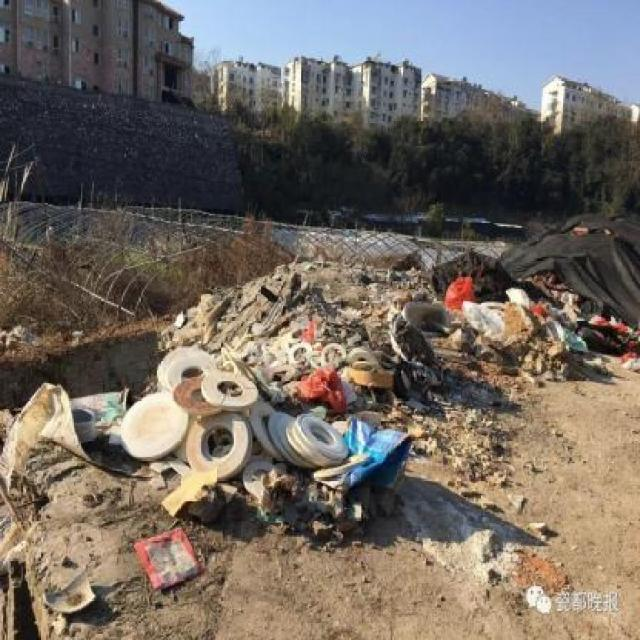garbage: (196, 286, 440, 532), (6, 366, 188, 628), (551, 209, 640, 384), (441, 268, 554, 391)
